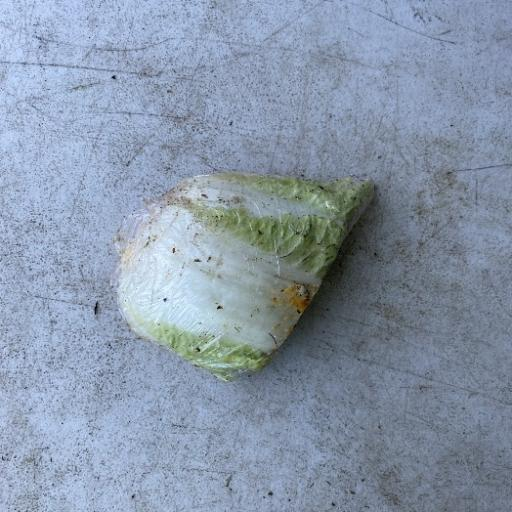Waste: (110, 169, 376, 383)
